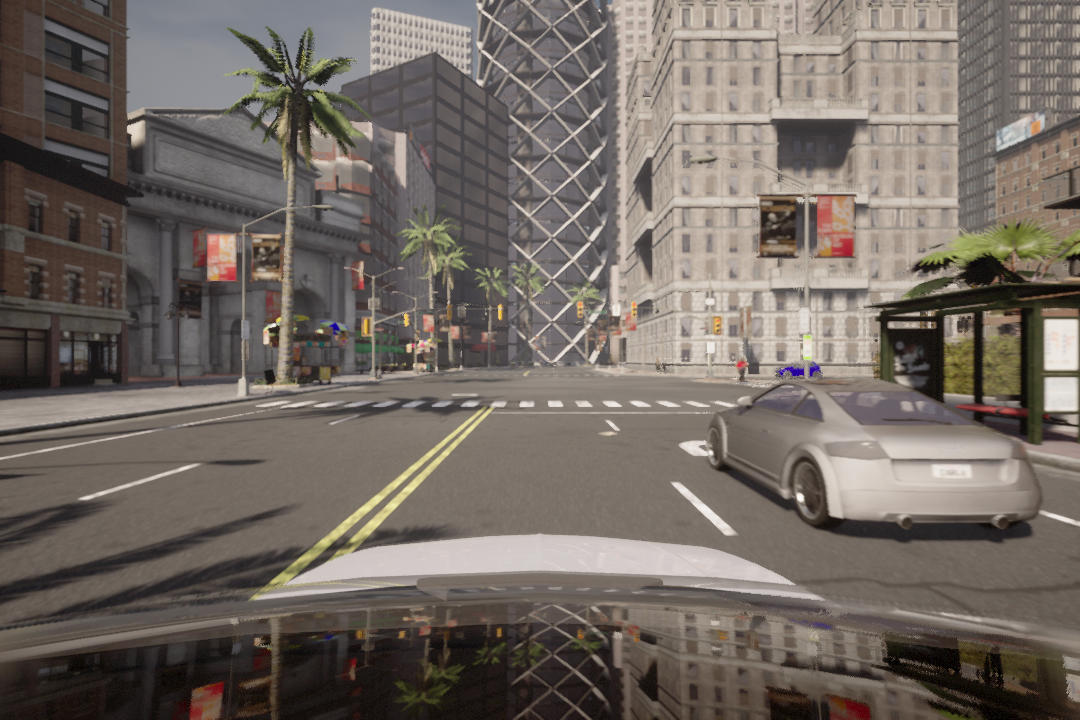TrafficLight: (711, 316, 724, 336), (630, 301, 637, 320), (576, 301, 582, 317)
walkside: (259, 394, 737, 415)
